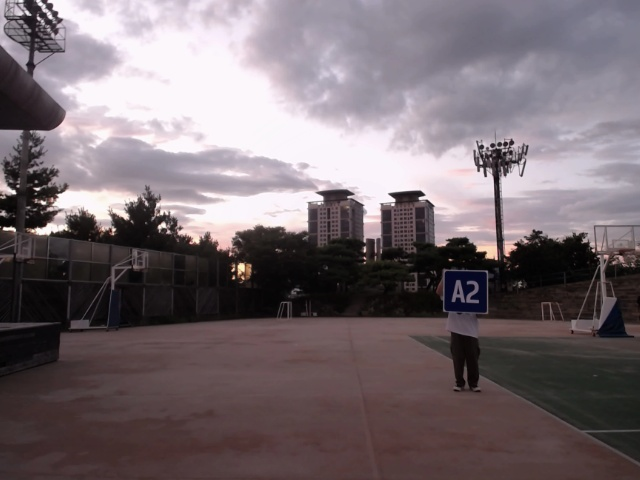delivery_a2: (443, 270, 488, 314)
